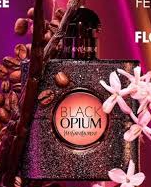ysl_black_opium: (19, 8, 142, 183)
